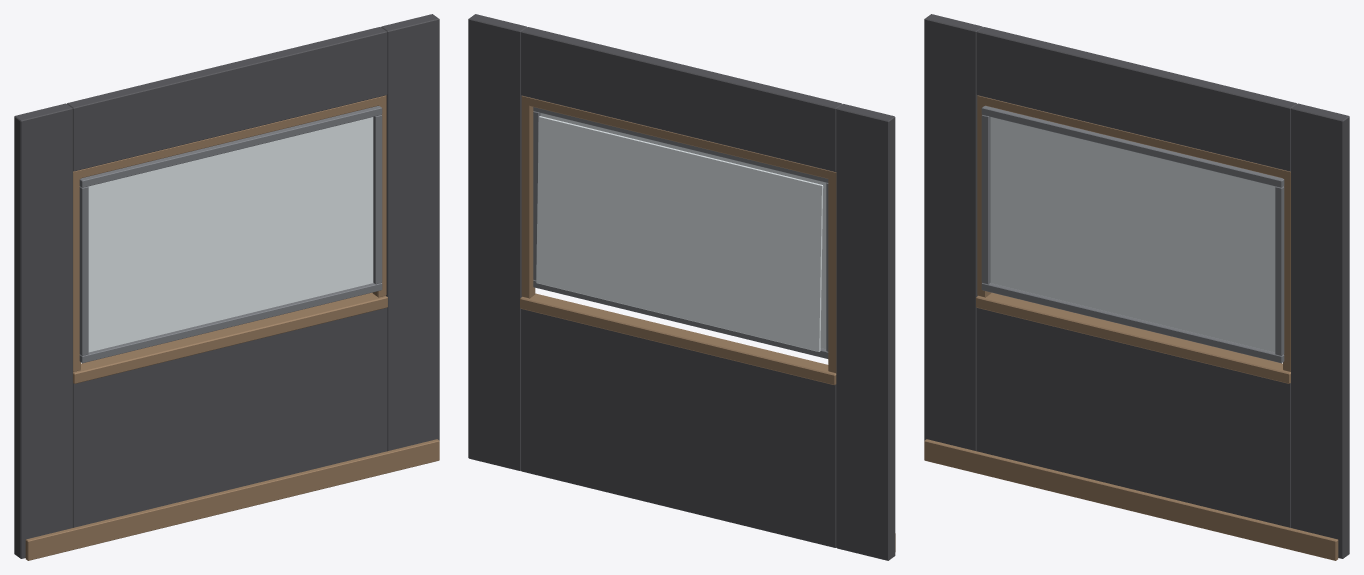
File: room-window.glb
3 renders of one model, left to right at view 1: azimuth 30°, elevation 25°; view 2: azimuth 150°, elevation 25°; view 3: azimuth 330°, elevation 25°, orthographic.
Parts seen in each view (by area): view 1: control-room-window-module; view 2: control-room-window-module; view 3: control-room-window-module.
Part boxes in pixels (box(x1,y1,x2,y2)): control-room-window-module: box(14, 14, 439, 560); control-room-window-module: box(468, 14, 895, 560); control-room-window-module: box(924, 14, 1349, 560).
Bounding box in the file's own units: 2.4 × 2.4 × 0.1161.
